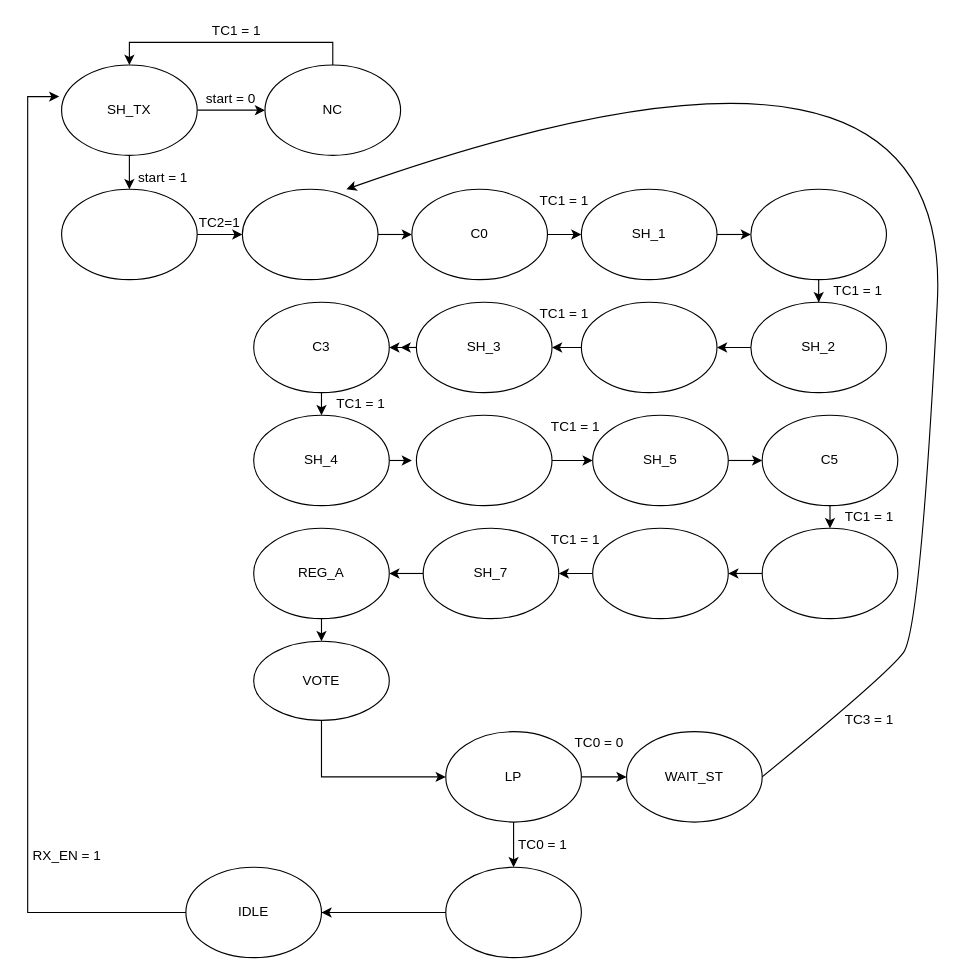
The diagram is 958 pixels wide and 977 high, and some of its shapes have lost their labels. Each missing label, with the centre of its shape:
"C1" belongs at point (818, 234).
"C2" belongs at point (648, 347).
"C4" belongs at point (483, 460).
"C6" belongs at point (660, 573).
"DONE_ST" belongs at point (513, 912).
"SH_6" belongs at point (829, 573).
"SH_C0" belongs at point (309, 234).
"START" belongs at point (128, 234).
